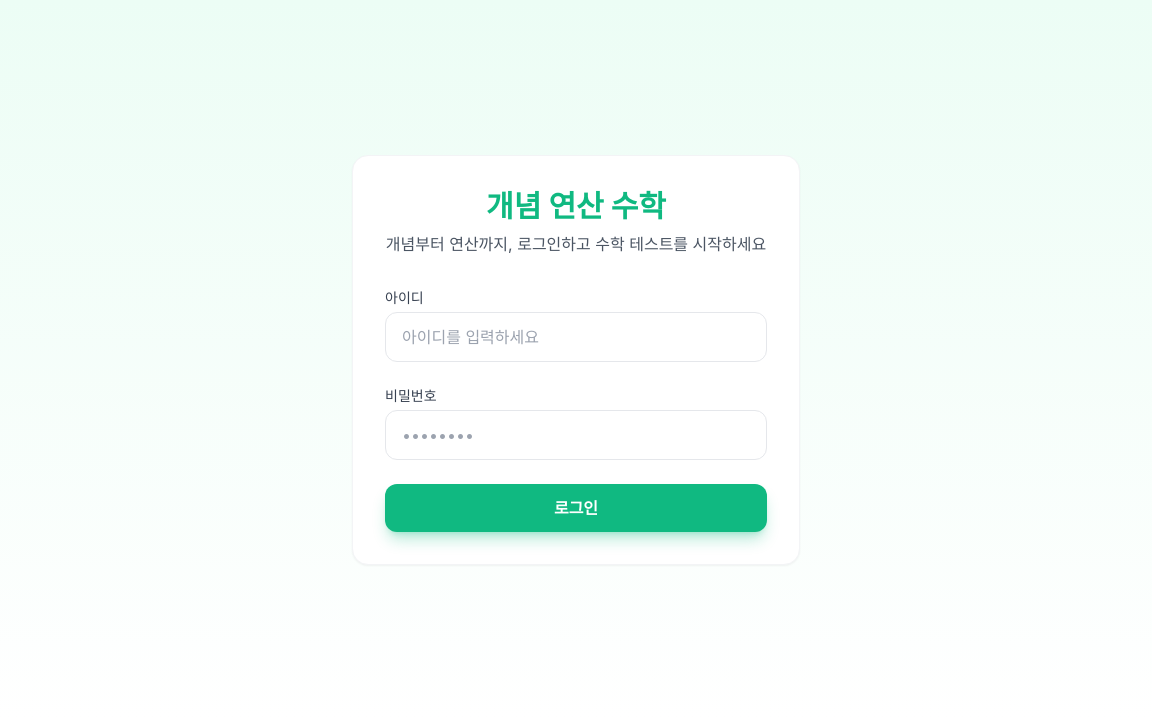
it: LoginPage › 폼 제출 › 잘못된 자격증명으로 로그인 실패 시 에러 메시지가 표시된다
Type "student01" into the field labelled "아이디" at (576, 337), box [385,312,767,362]
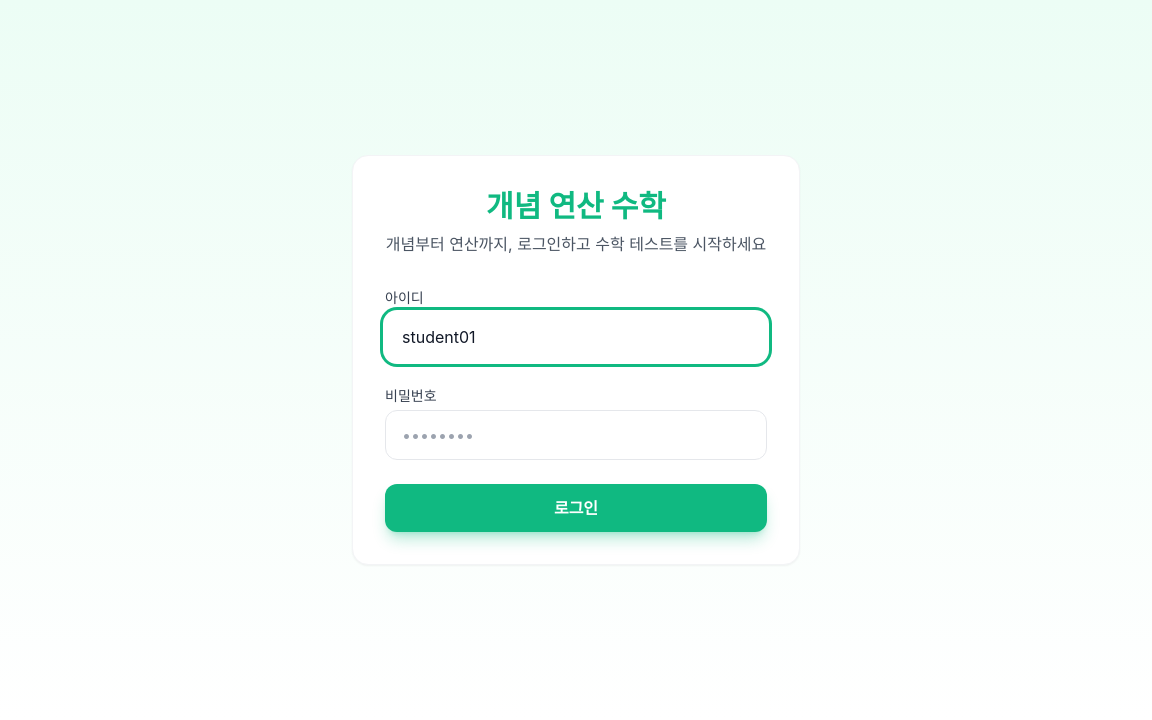
Type "wrong_password" into the password field labelled "비밀번호" at (576, 435), box [385,410,767,460]
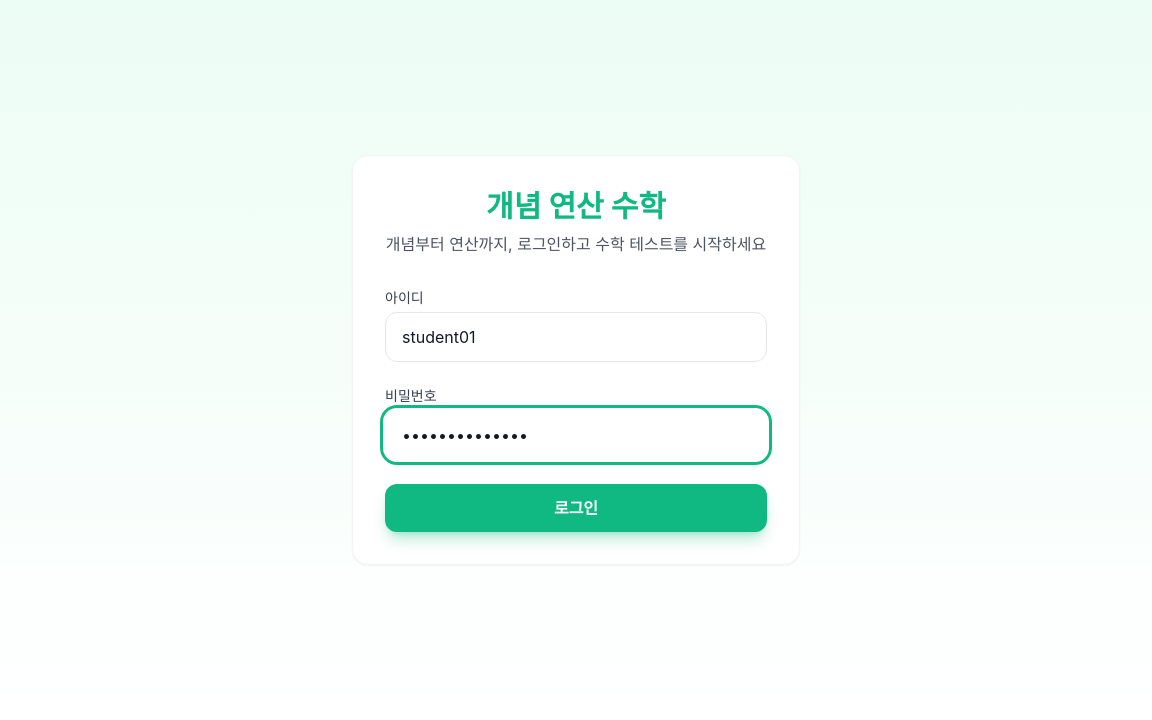
Click the button "로그인" at (576, 508), box [385,484,767,532]
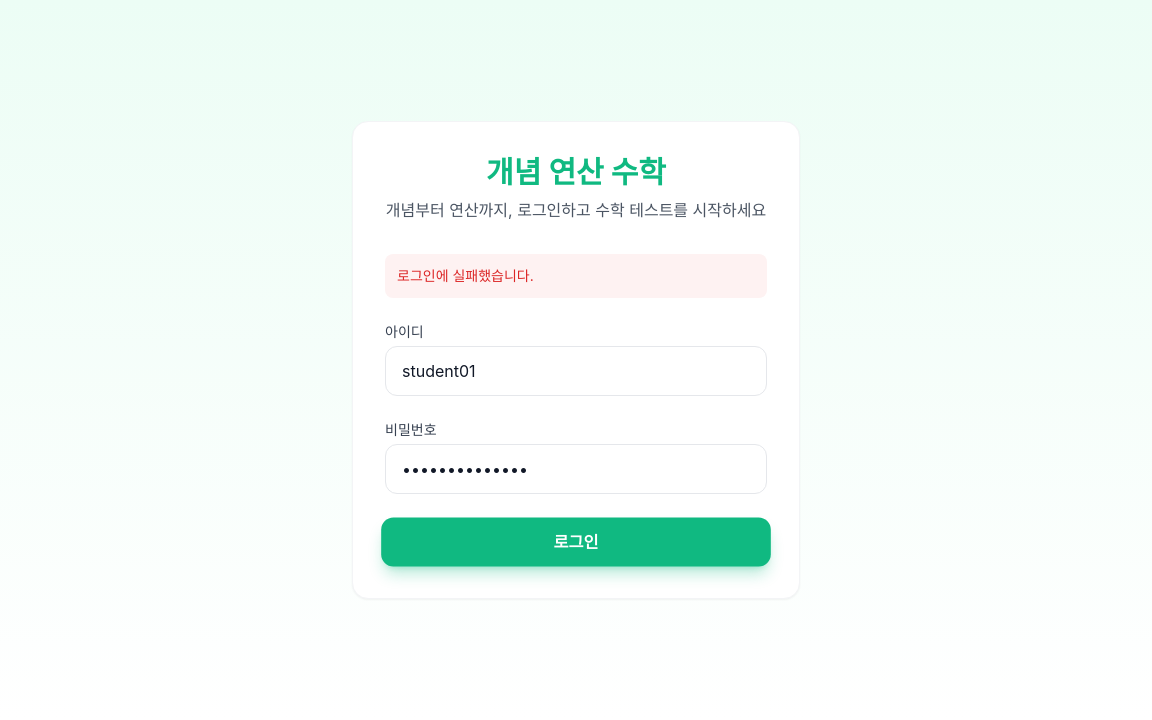
Expected: the text "로그인에 실패했습니다." is shown, [385,254,767,298]
